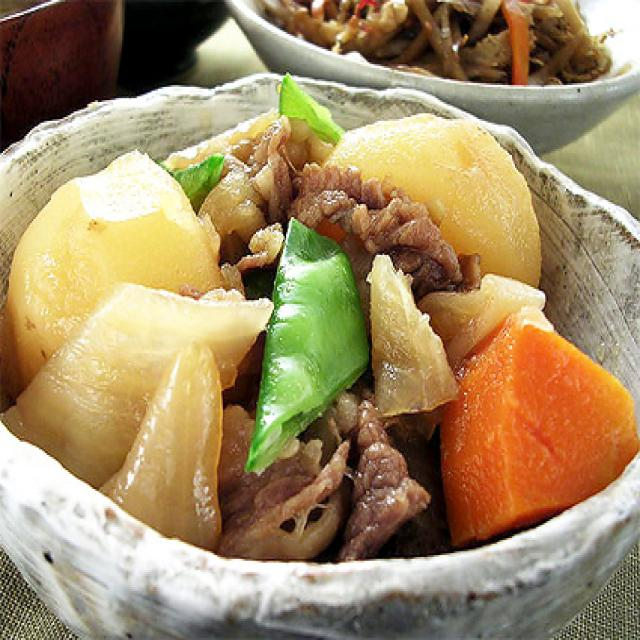牛肉菜式: (0, 85, 640, 574)
